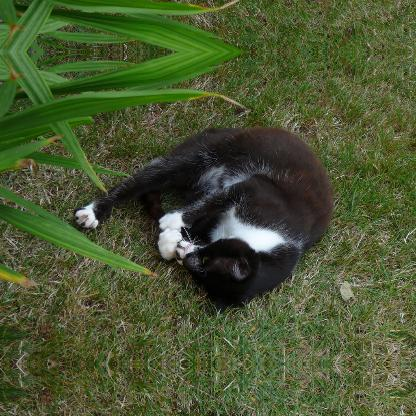Cat: (70, 124, 332, 307)
